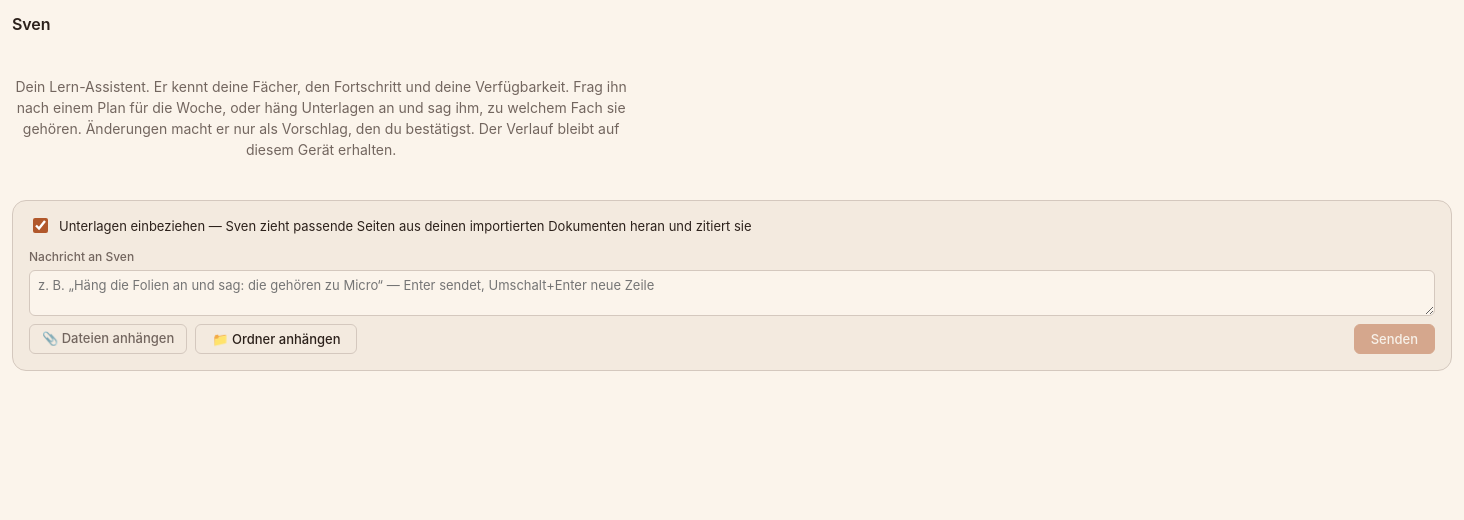
Test case: AssistantChat › zeigt einen Fehler und behält die Nutzer-Nachricht
Type "hallo" into the text box labelled "Nachricht an Sven" at point(732, 293), box [29,270,1435,316]
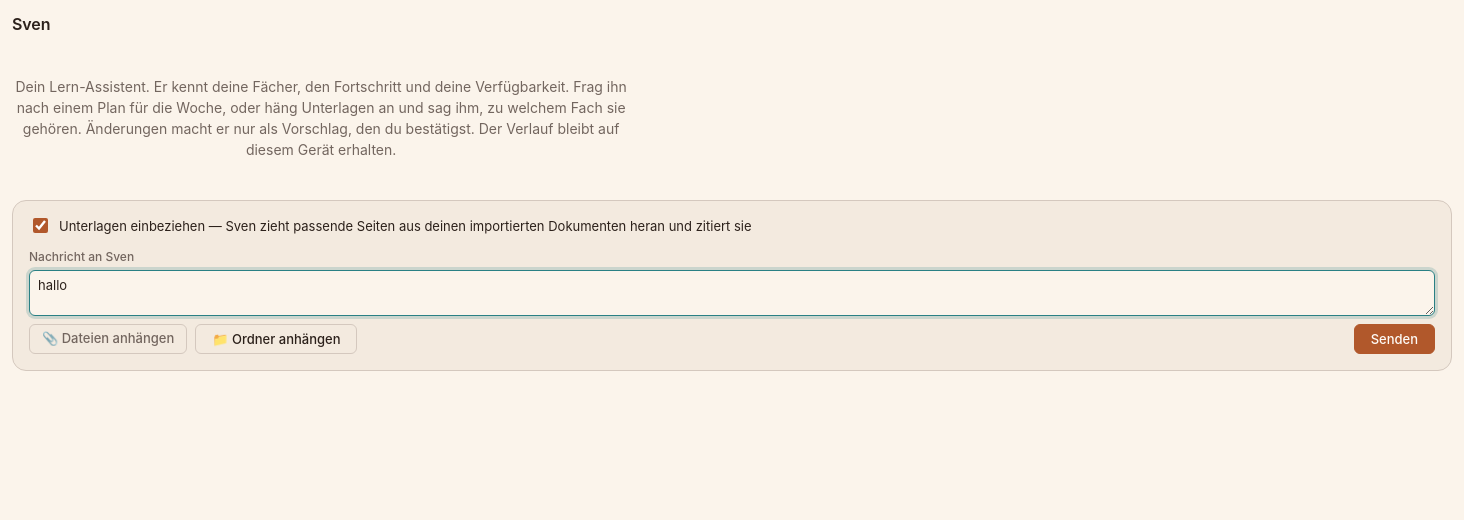
Click the button "Senden" at point(1394, 339), box [1354,324,1435,354]
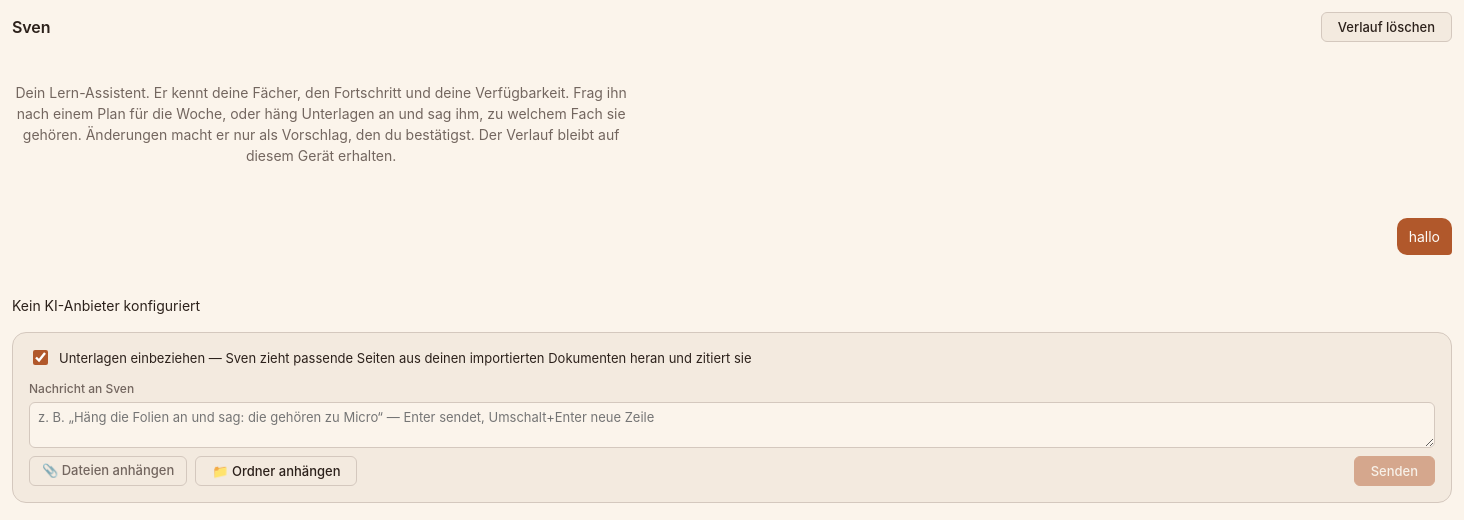
Check: the message reads "Kein KI-Anbieter konfiguriert", box [12,297,200,314]
Check: the text "hallo" is shown, box [1397,218,1452,255]
